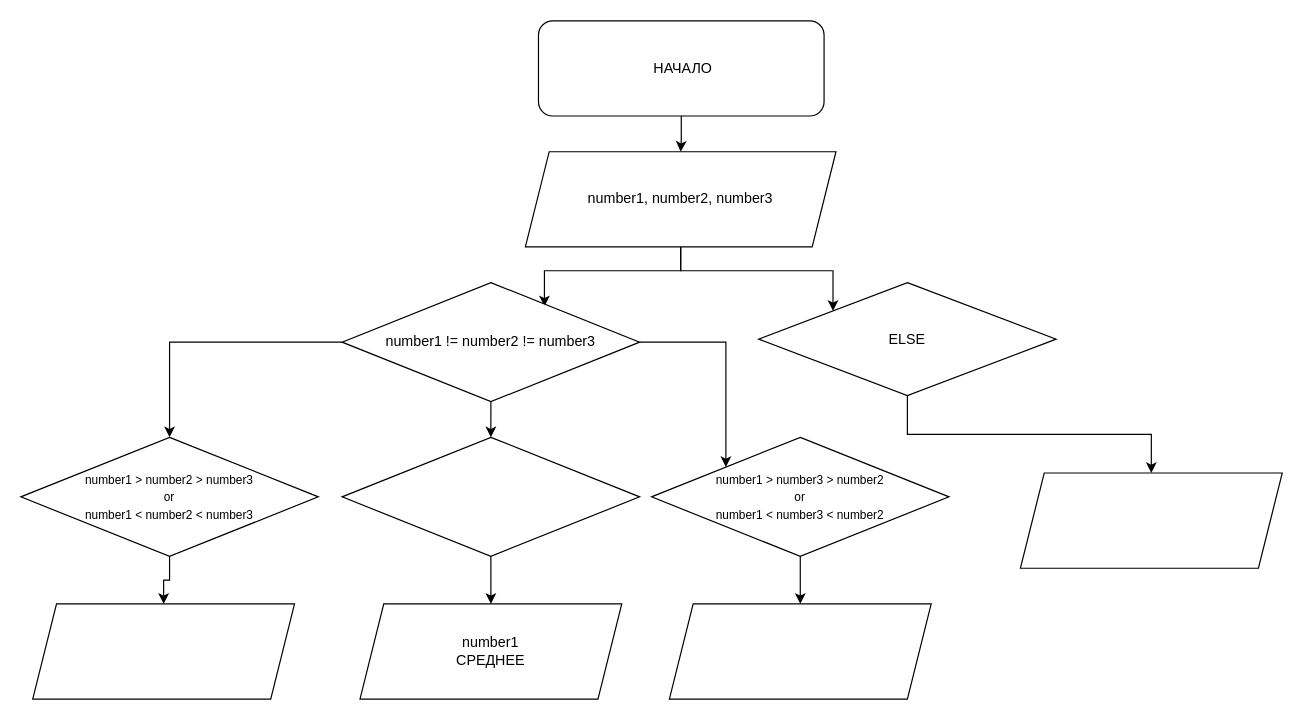
The diagram is 1303 pixels wide and 720 high, and some of its shapes have lost their labels. Here are the shapes that lost their labels. From the top down, the centre of each, then its label:
At [490,496]: "number2 > number1 > number3 or number2 < number1 < number3".
At [1150,520]: "Введите три РАЗНЫХ числа".
At [163,651]: "number2 СРЕДНЕЕ".
At [799,651]: "number3 СРЕДНЕЕ".
